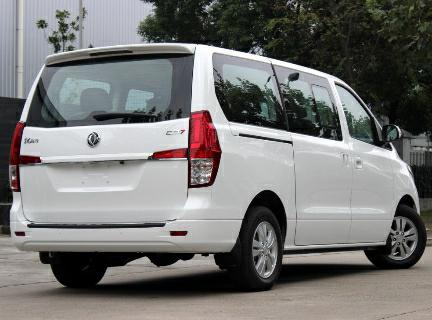东风风行-风行CM7: (2, 41, 430, 293)
